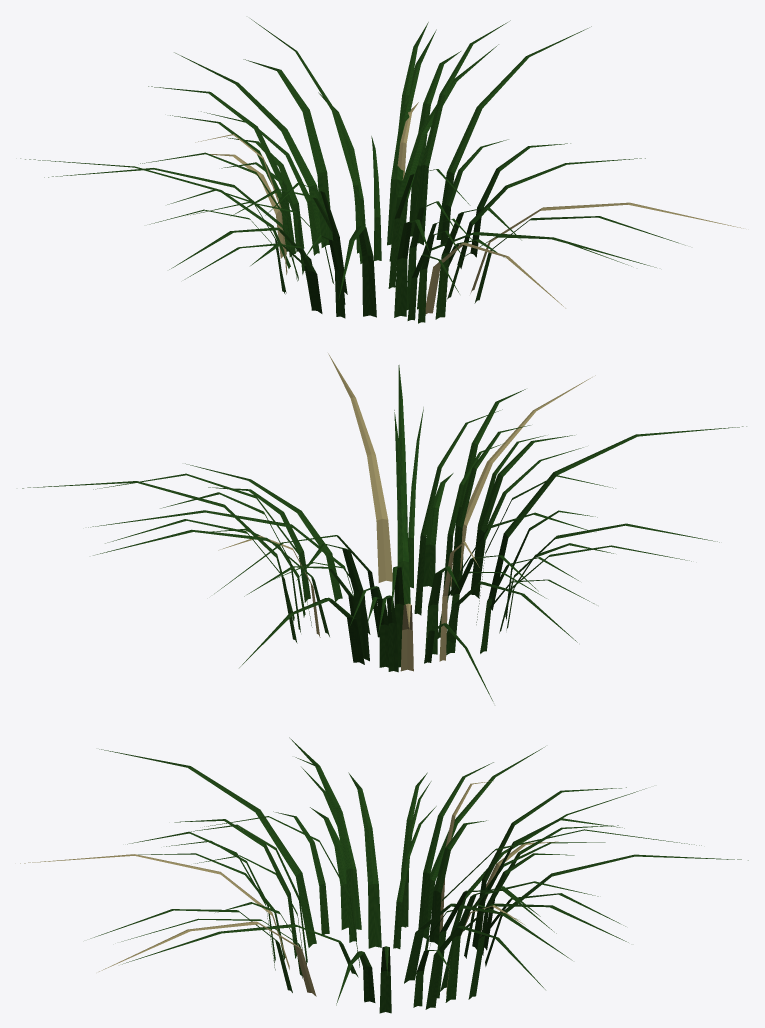
Rendered from Woodland_Grass_Tuft_03_LOD1.fbx.
3 renders of one model, top to bottom at view 1: azimuth 30°, elevation 25°; view 2: azimuth 150°, elevation 25°; view 3: azimuth 270°, elevation 25°, orthographic. The views are drawn at different scales.
Visible parts, largest first — view 1: Woodland_Grass_Tuft_03_LOD1_Foliage; view 2: Woodland_Grass_Tuft_03_LOD1_Foliage; view 3: Woodland_Grass_Tuft_03_LOD1_Foliage.
Part boxes in pixels (<box>): Woodland_Grass_Tuft_03_LOD1_Foliage: <box>20,18,743,323</box>; Woodland_Grass_Tuft_03_LOD1_Foliage: <box>22,353,746,701</box>; Woodland_Grass_Tuft_03_LOD1_Foliage: <box>20,737,748,1013</box>.
Bounding box in the file's own units: 106 × 27.81 × 123.
2 materials, 1 textured.
